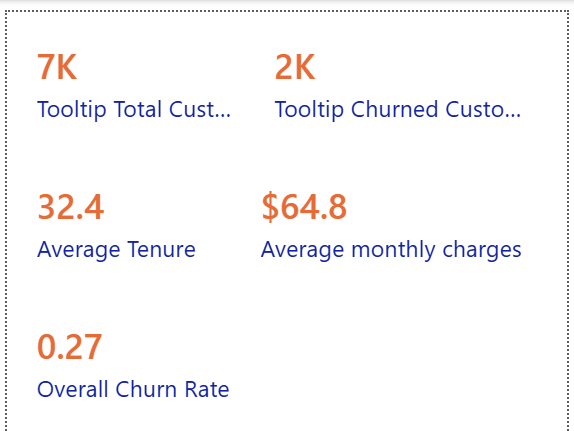

The dashboard page shown, as its layout file describes it:
{"tool":"powerbi","page":{"name":"Tooltip","canvas":[320,240],"ordinal":1},"visuals":[{"type":"cardVisual","fields":{"Data":["churn.Tooltip Churned Customers"]},"box":[136,0,184,80],"z":1000},{"type":"cardVisual","fields":{"Data":["churn.Average monthly charges"]},"box":[128,80,192,80],"z":2000},{"type":"cardVisual","fields":{"Data":["churn.Overall Churn Rate"]},"box":[0,160,176,80],"z":3000},{"type":"cardVisual","fields":{"Data":["churn.Average Tenure"]},"box":[0,80,128,80],"z":4000},{"type":"cardVisual","fields":{"Data":["churn.Tooltip Total Customers"]},"box":[0,0,152,80],"z":4001}]}

Visuals, with their boxes in screenshot pixels (x1, y1, x2, y2), scaled from the page's 320x240 canvas onto the 574x431 screenshot:
cardVisual - churn.Tooltip Churned Customers: 244/0/573/144
cardVisual - churn.Average monthly charges: 230/144/573/287
cardVisual - churn.Overall Churn Rate: 0/287/316/430
cardVisual - churn.Average Tenure: 0/144/230/287
cardVisual - churn.Tooltip Total Customers: 0/0/273/144
